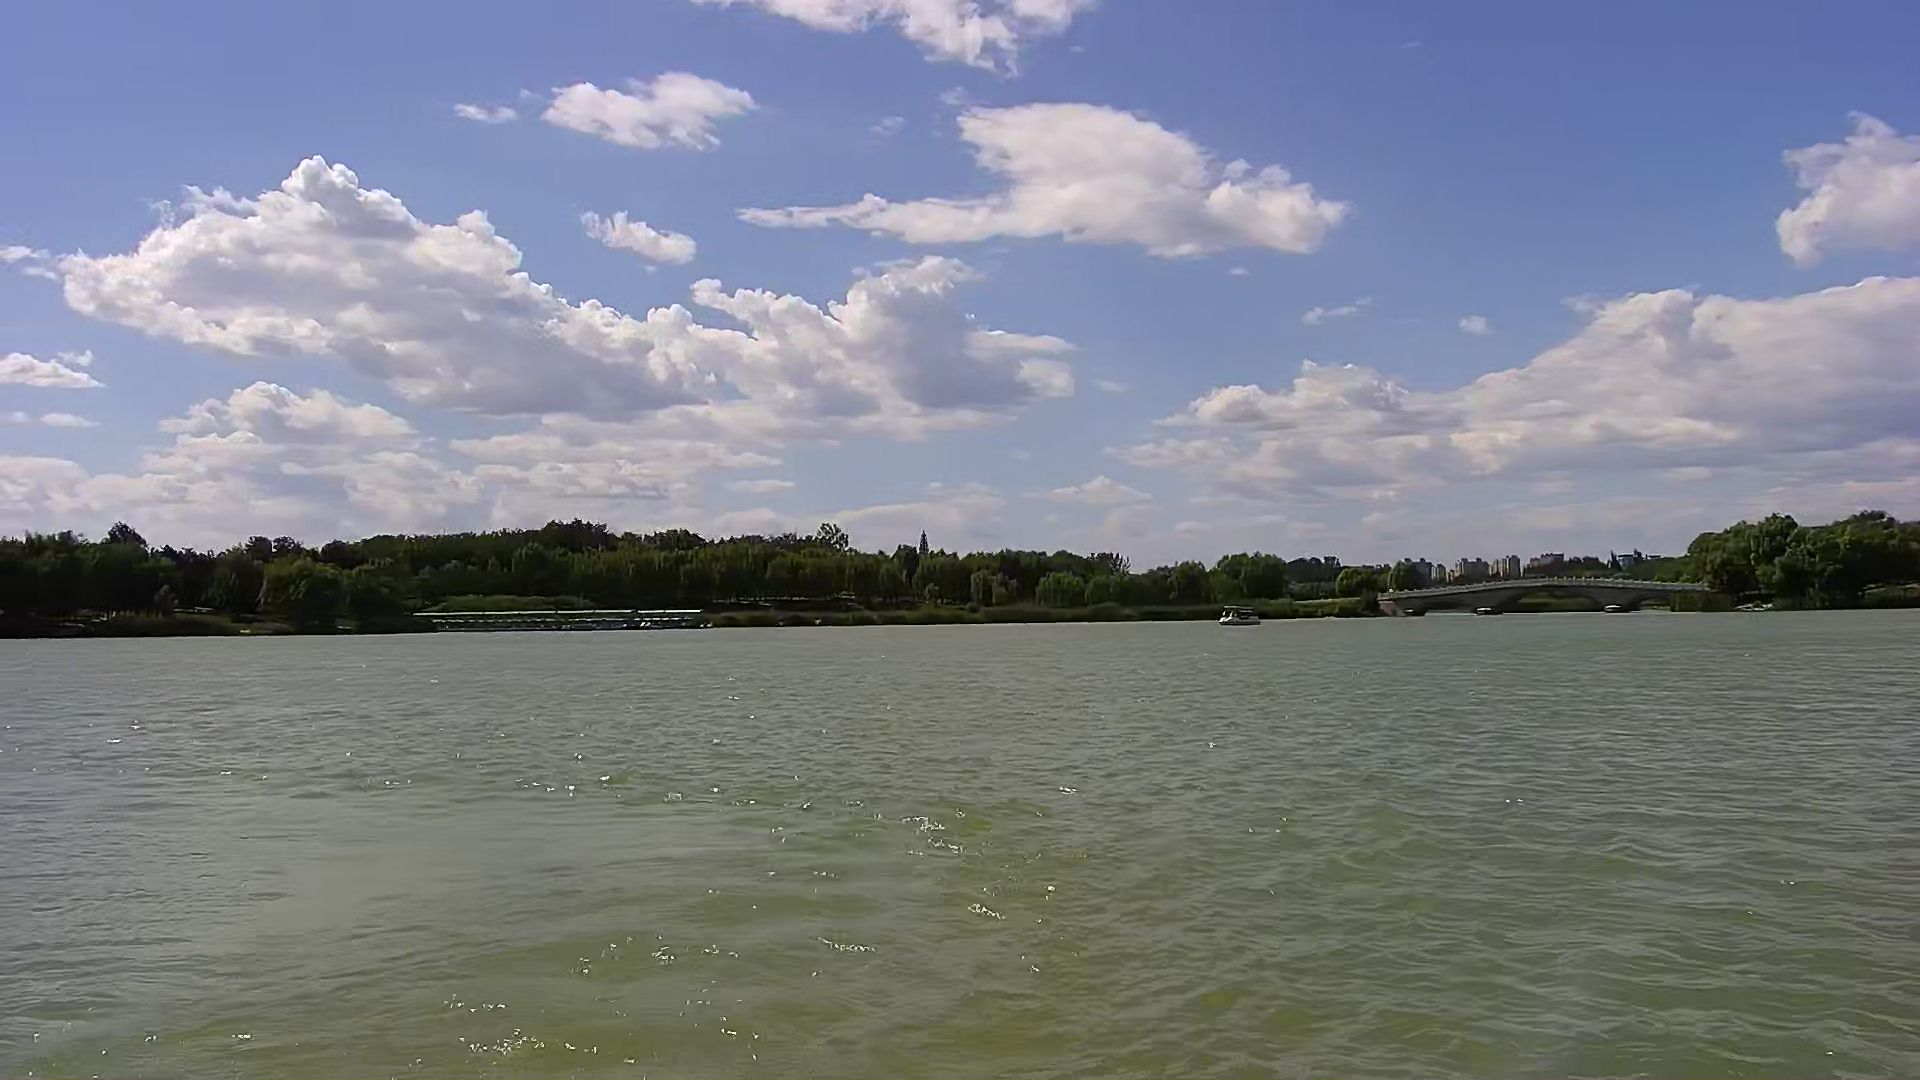boat: (1215, 607, 1263, 626)
bridge: (1383, 578, 1710, 617), (421, 611, 702, 632)
